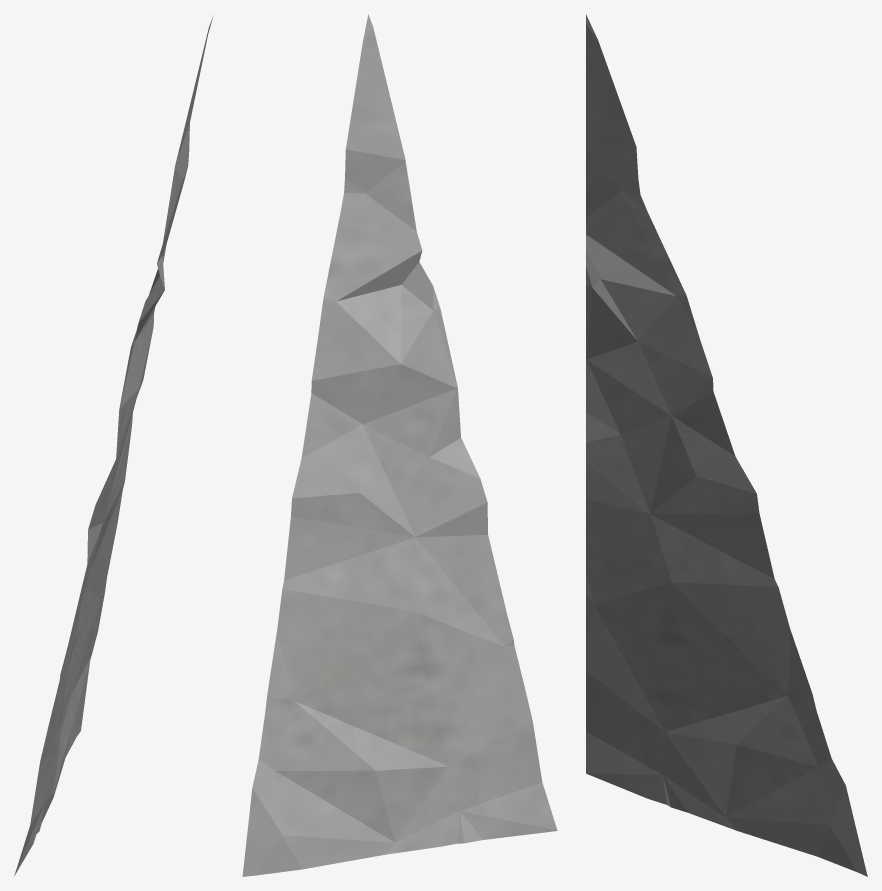
3 views of the same model, side by side, from view 1: azimuth 30°, elevation 25°; view 2: azimuth 150°, elevation 25°; view 3: azimuth 270°, elevation 25° (orthographic). The views are drawn at different scales.
Bounding box in the file's own units: 0.1054 × 0.4105 × 0.1216.
1 material, 1 textured.
